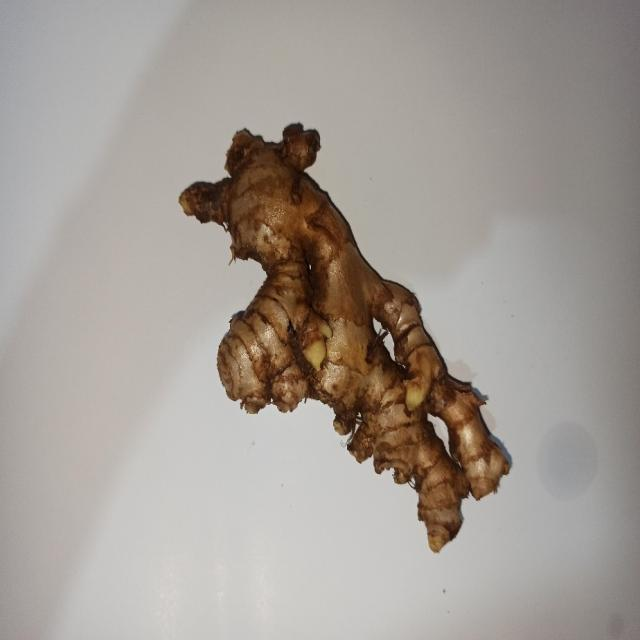ginger: (179, 122, 512, 560)
